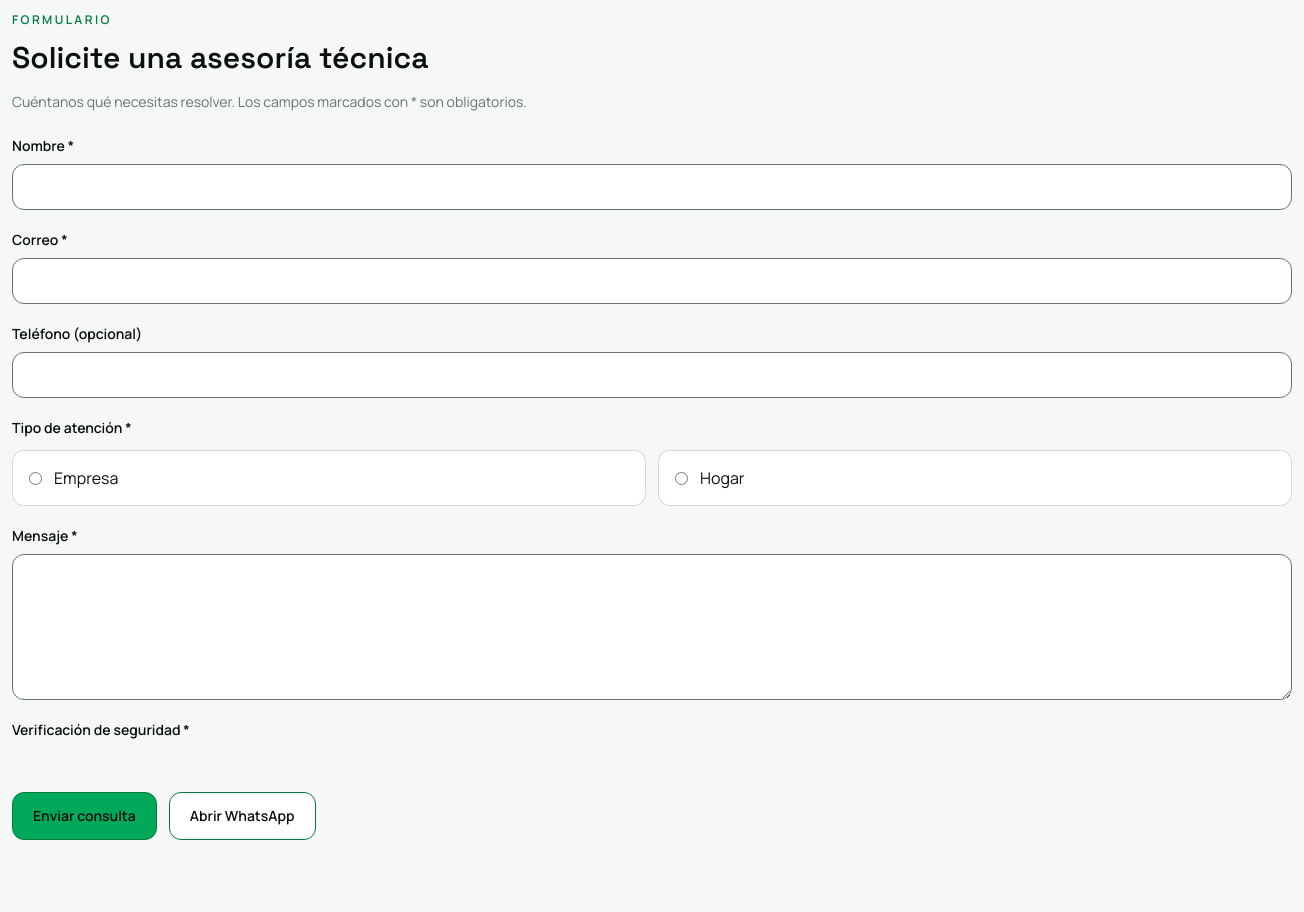
Test: requires hCaptcha verification before contacting Web3Forms
The width and height of the screenshot is (1304, 912).
In the field labelled "Nombre *": {"x": 652, "y": 187} [12,164,1292,210], type " Ana Pérez "
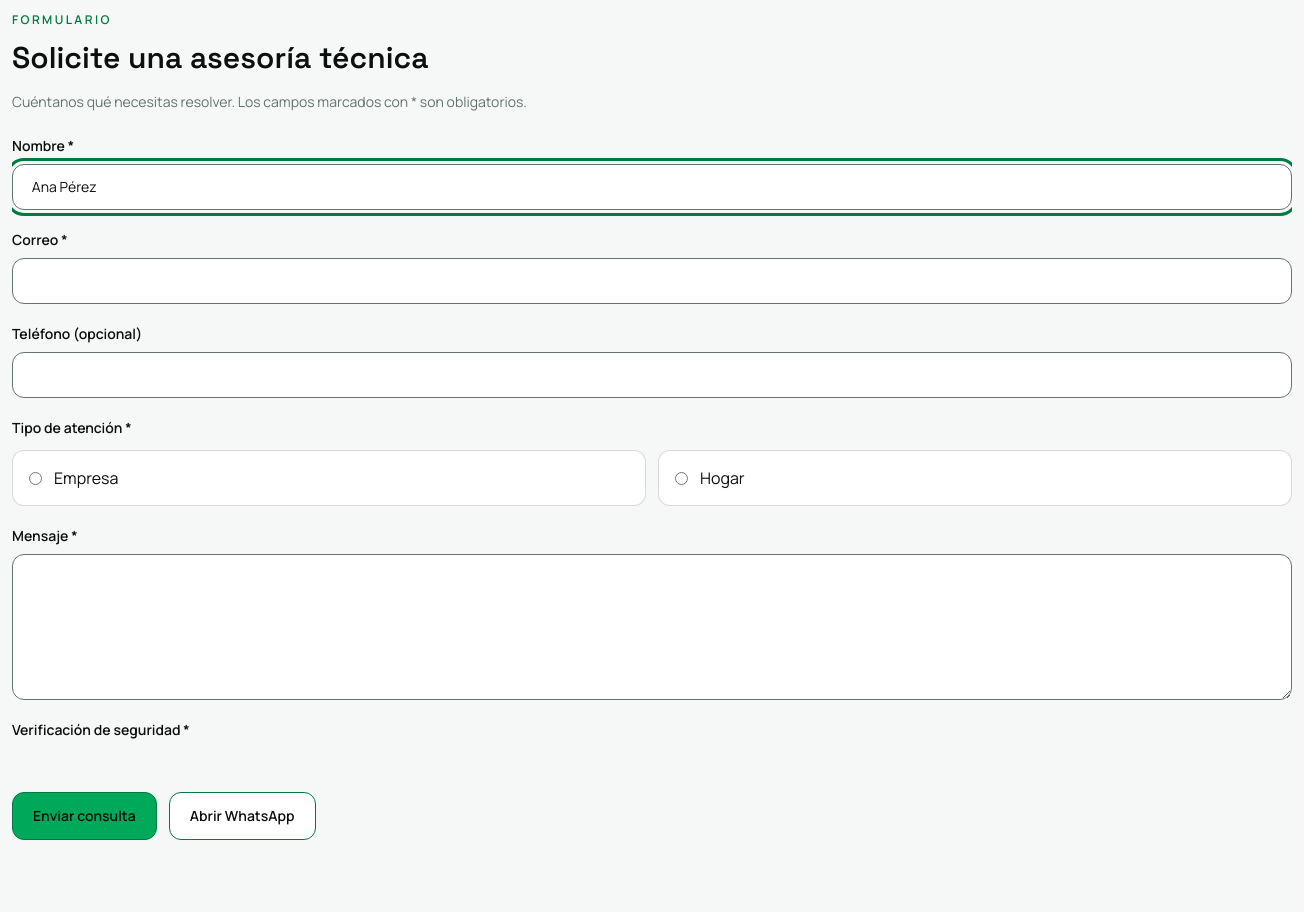
In the field labelled "Correo *": {"x": 652, "y": 281} [12,258,1292,304], type "ana@example.com"
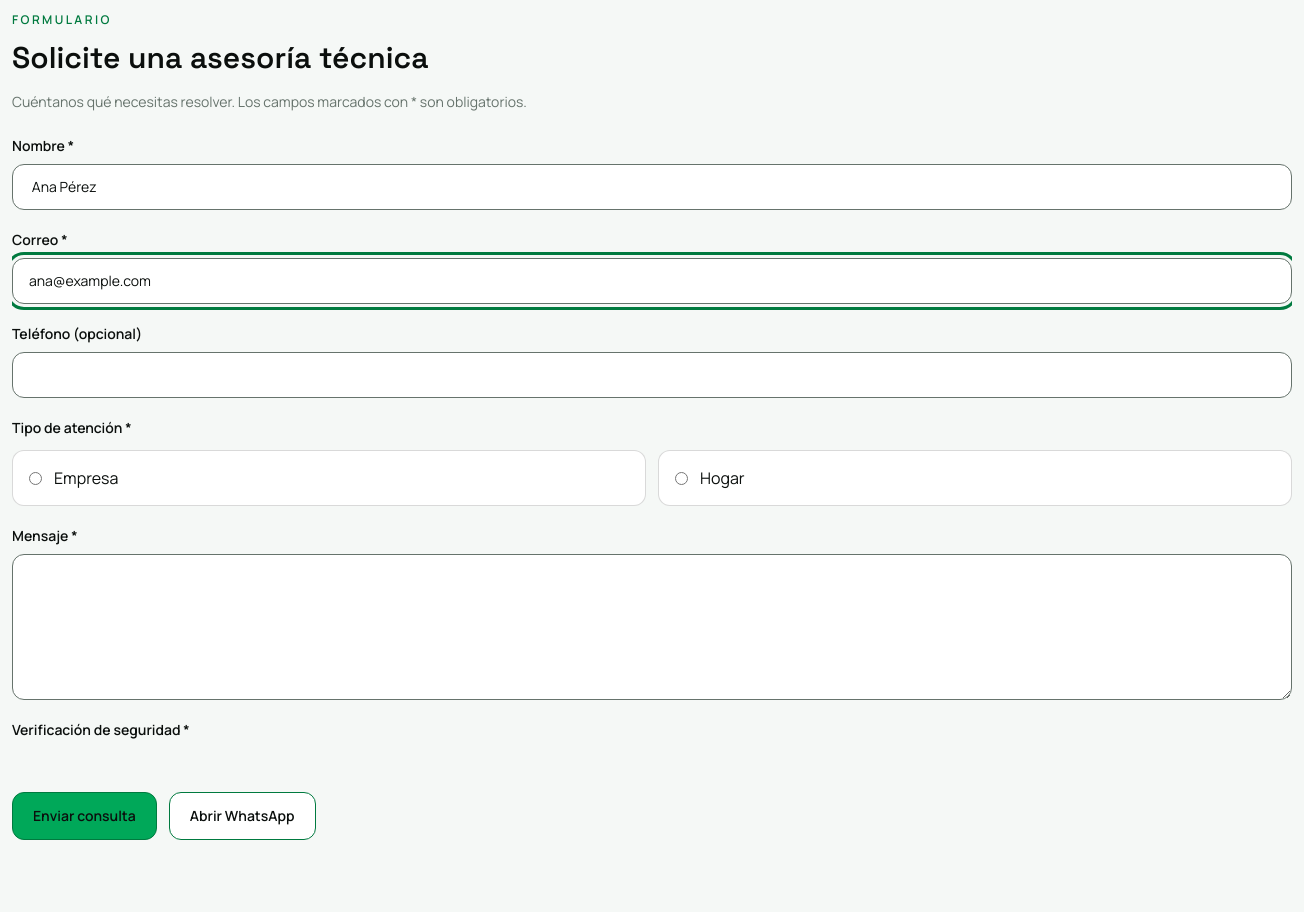
In the field labelled "Teléfono (opcional)": {"x": 652, "y": 375} [12,352,1292,398], type " +504 9999-0000 "
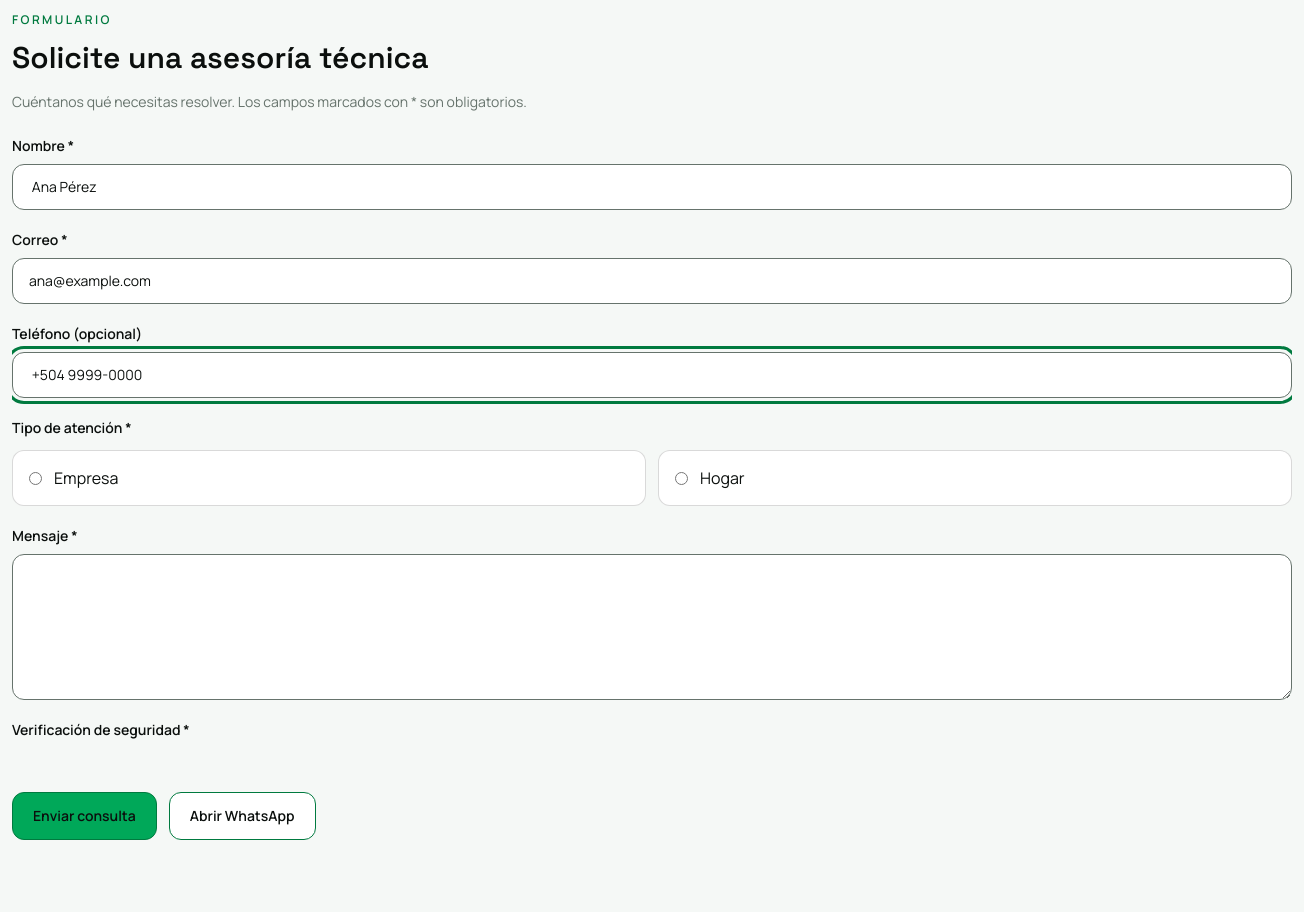
Click the radio button labelled "Hogar": {"x": 682, "y": 478} [675,472,688,484]
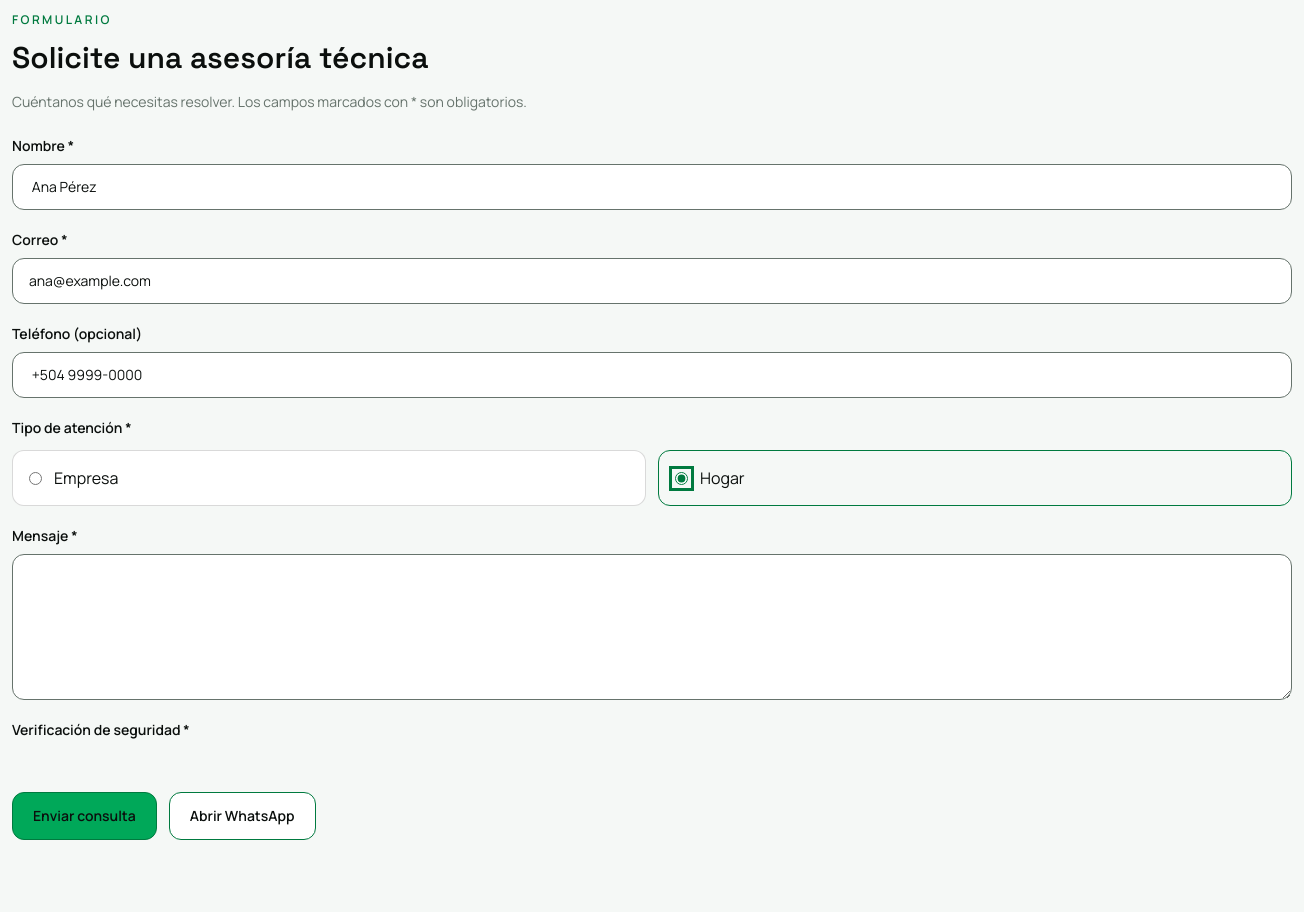
In the text box labelled "Mensaje *": {"x": 652, "y": 627} [12,554,1292,700], type " Necesito soporte de red. "
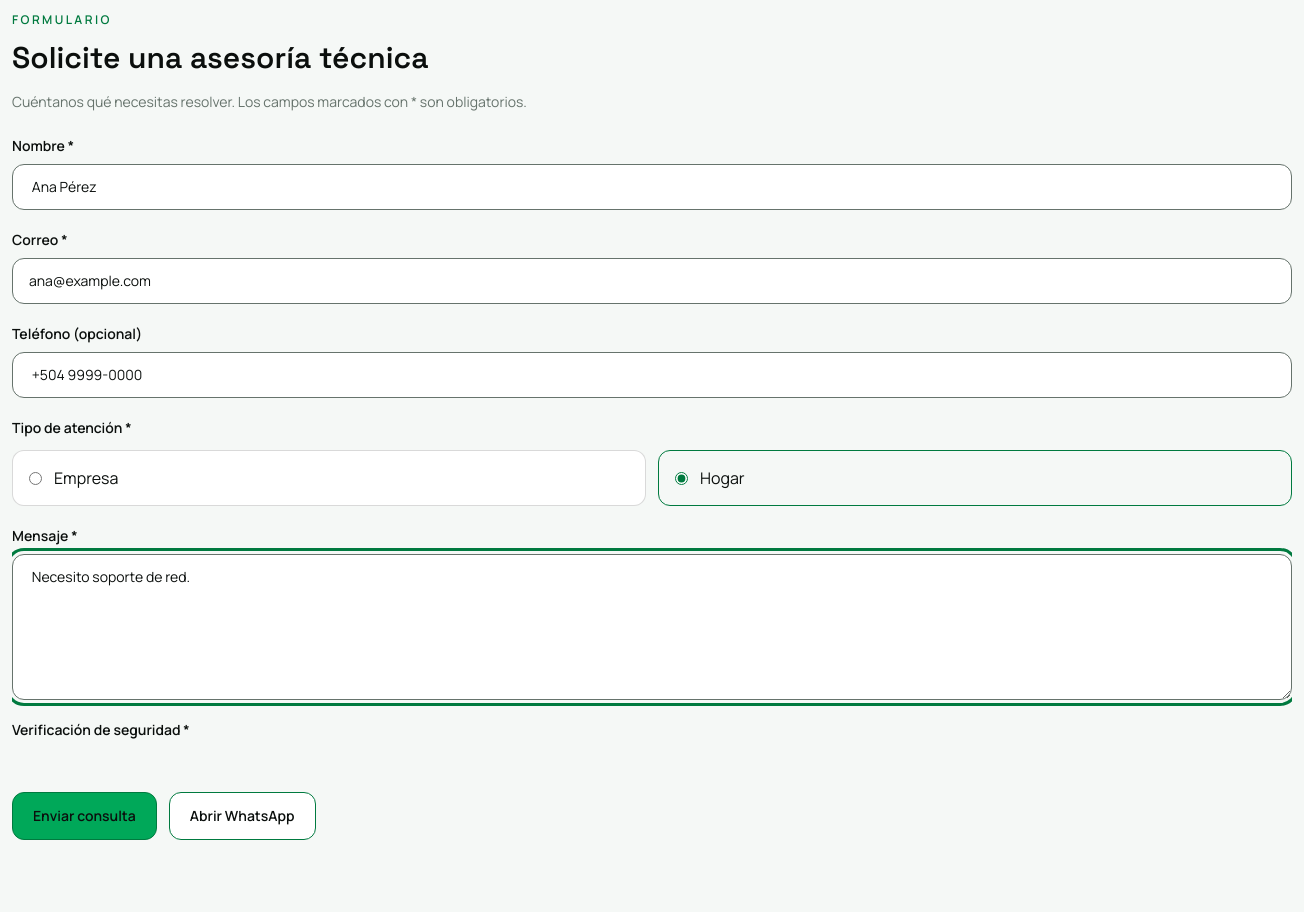
Click the button "Enviar consulta": {"x": 84, "y": 816} [12,792,157,840]
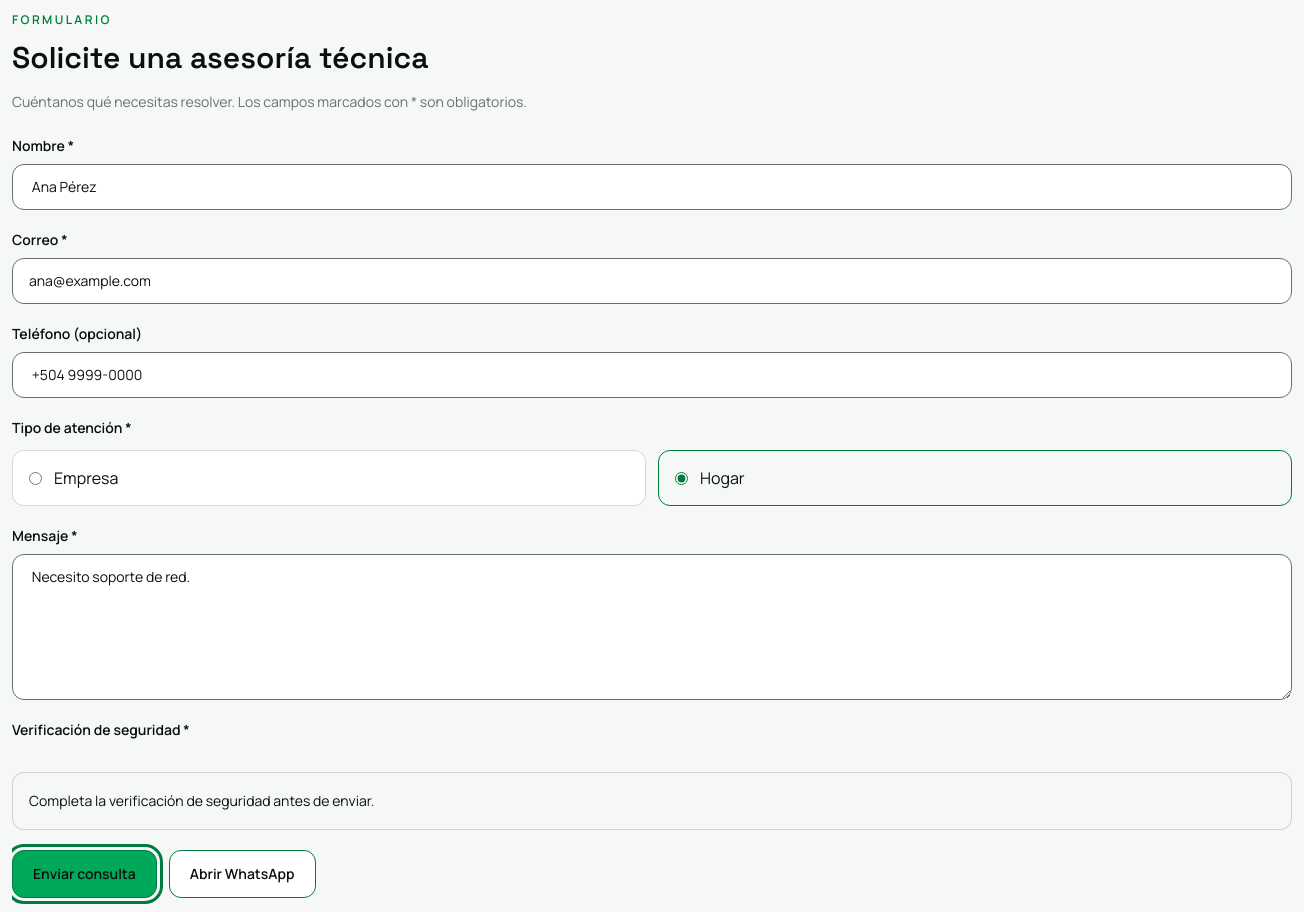
Result: the message shows "Completa la verificación de seguridad" at [29,791,374,810]
